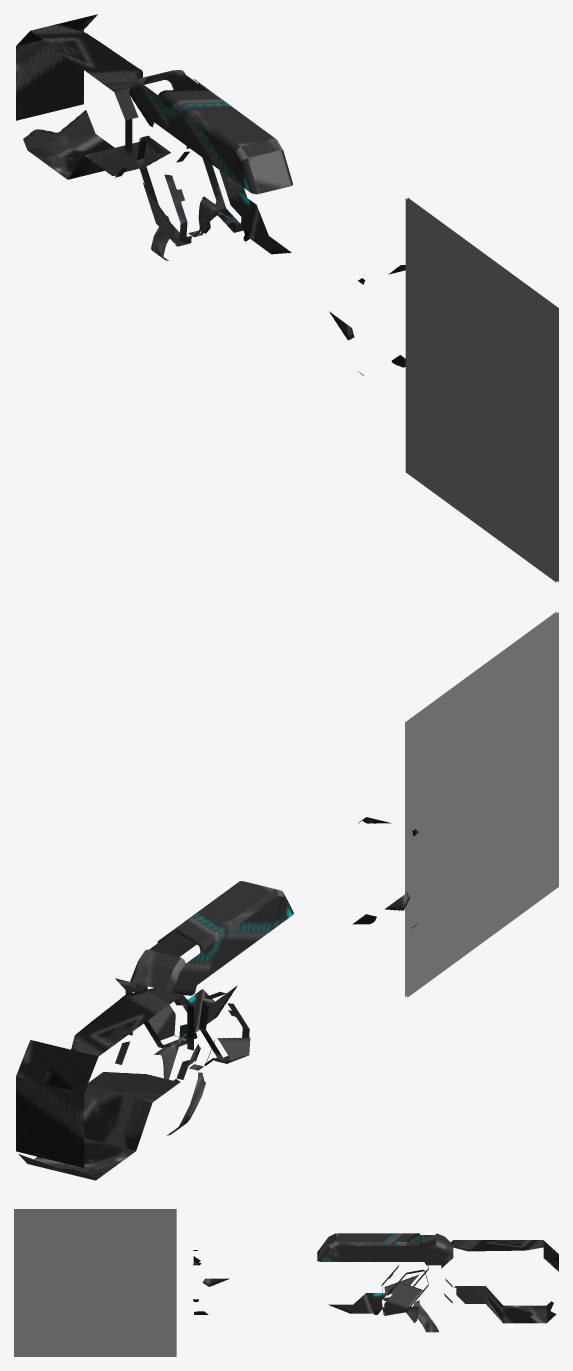
File: plasma_rifle.fbx
3 views of the same model, one above another, from view 1: azimuth 30°, elevation 25°; view 2: azimuth 150°, elevation 25°; view 3: azimuth 270°, elevation 25° (orthographic). The views are drawn at different scales.
Parts seen in each view (by area): view 1: MuzzleFlash, gunB; view 2: MuzzleFlash, gunB; view 3: MuzzleFlash, gunB.
Part boxes in pixels (x1,y1,x2,y2): MuzzleFlash: [405, 198, 558, 582]; gunB: [16, 14, 405, 375]; MuzzleFlash: [405, 611, 558, 997]; gunB: [16, 817, 418, 1180]; MuzzleFlash: [14, 1209, 176, 1356]; gunB: [193, 1233, 558, 1332].
Bounding box in the file's own units: 0.0458 × 0.15 × 0.5029.
